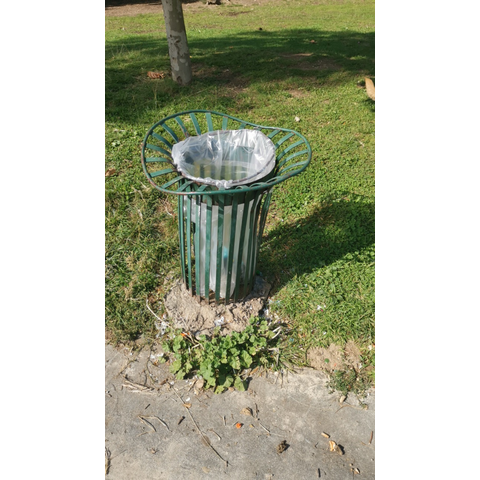poubelle: (140, 105, 314, 308)
